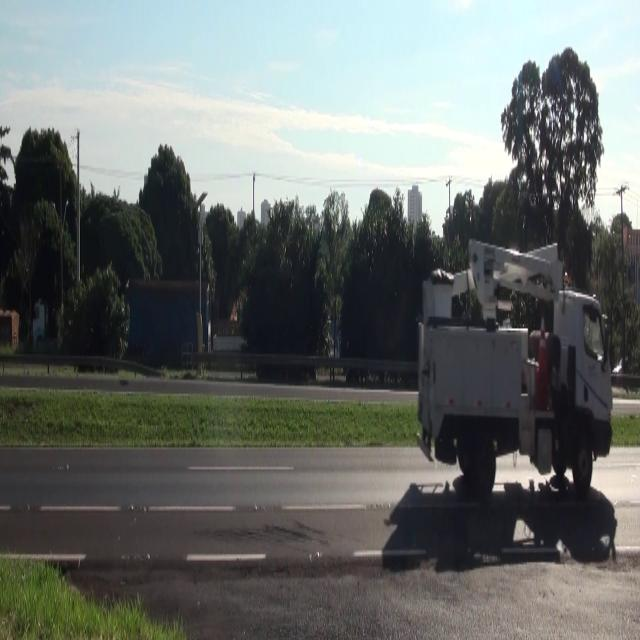-axle: (465, 426, 496, 500), (571, 429, 597, 488)
